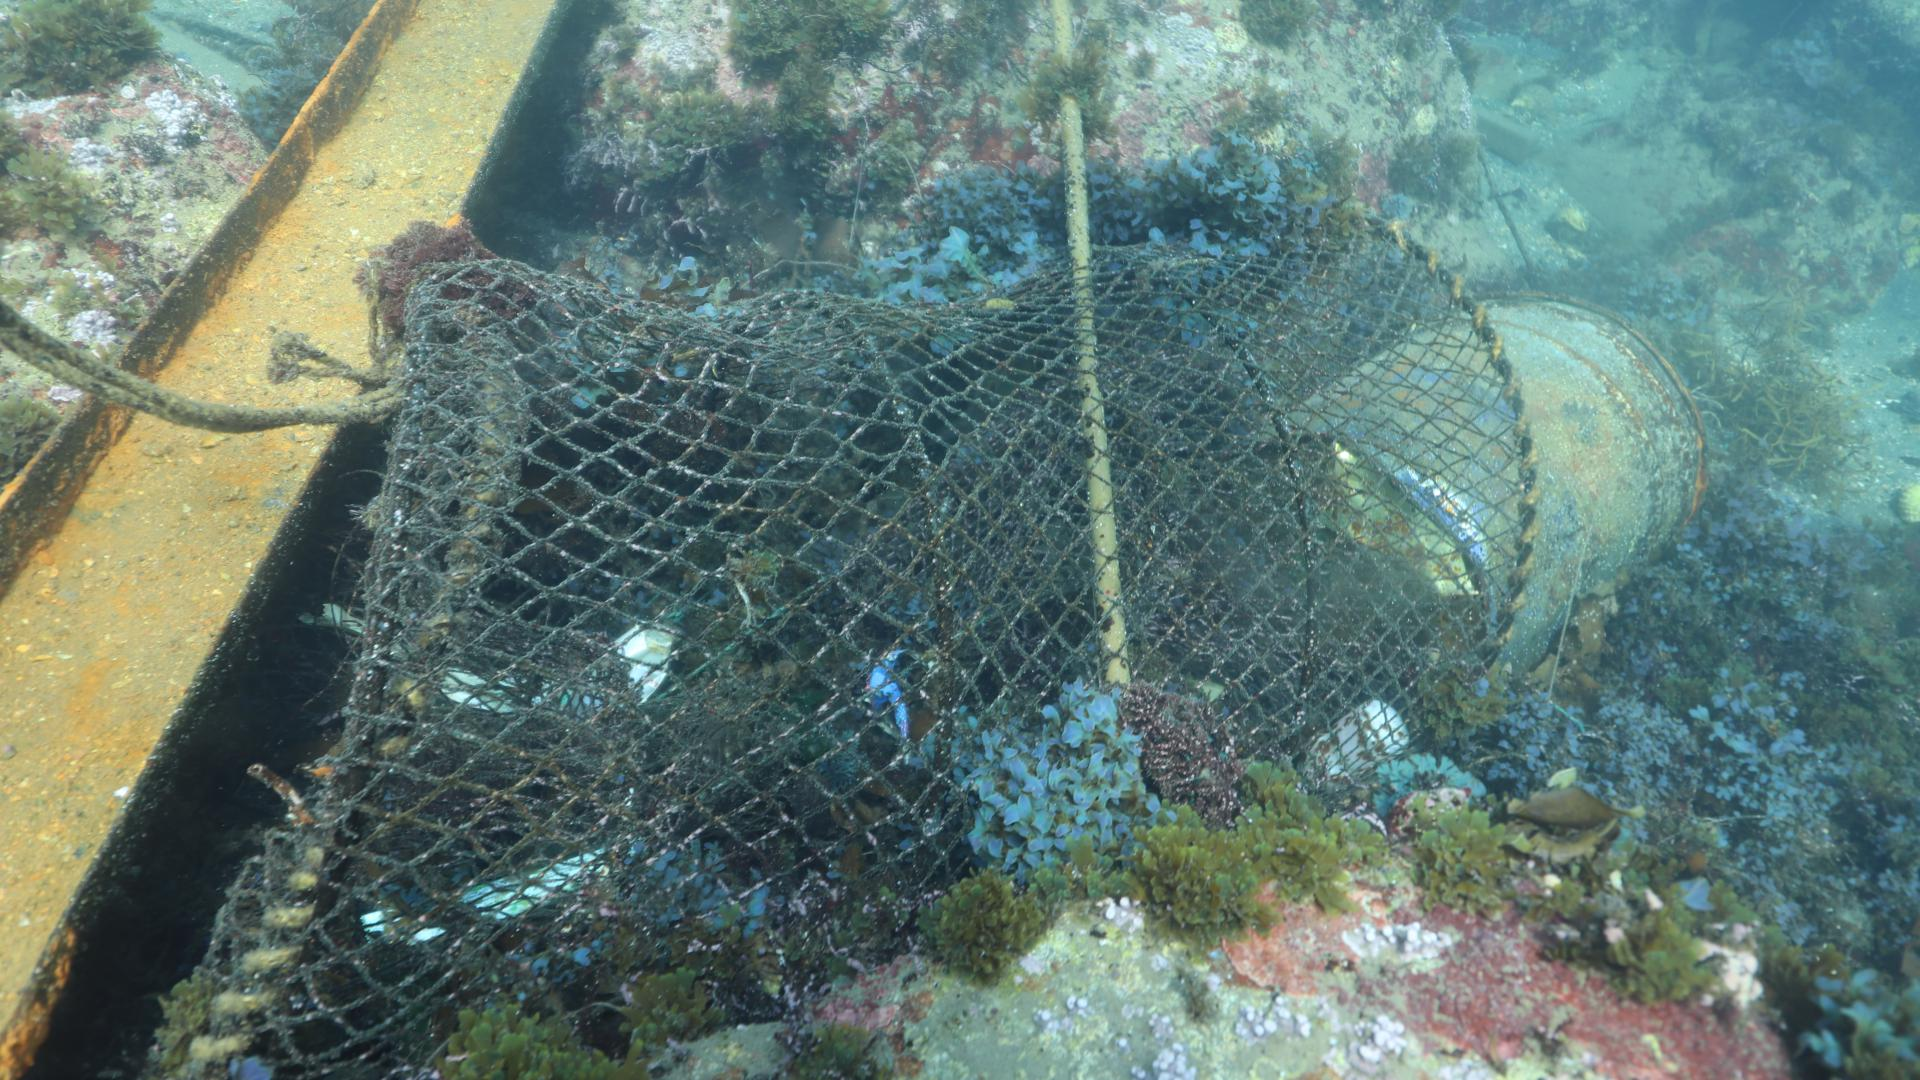bundle of ropes: (0, 282, 392, 442)
spring fish trap: (185, 208, 1539, 1080)
